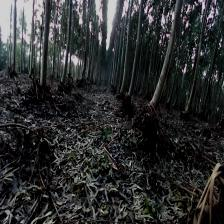trunk: (150, 3, 183, 111), (127, 3, 144, 102), (39, 4, 51, 87), (60, 3, 72, 83), (11, 0, 17, 72)
